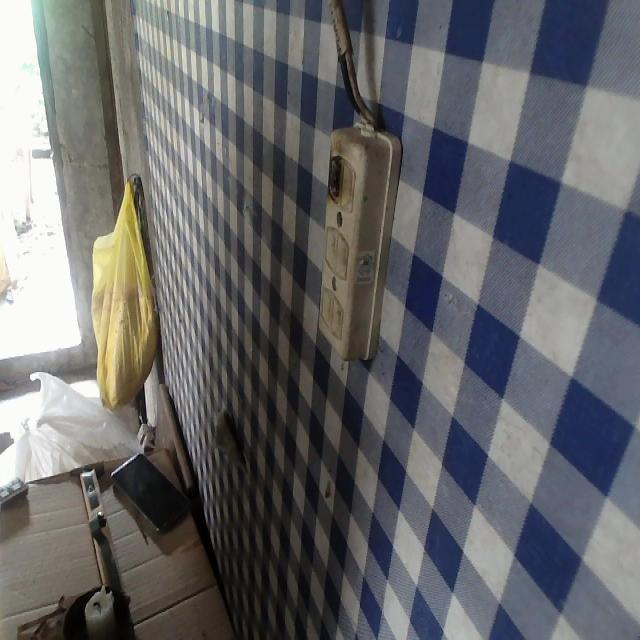-: (323, 152, 342, 207)
